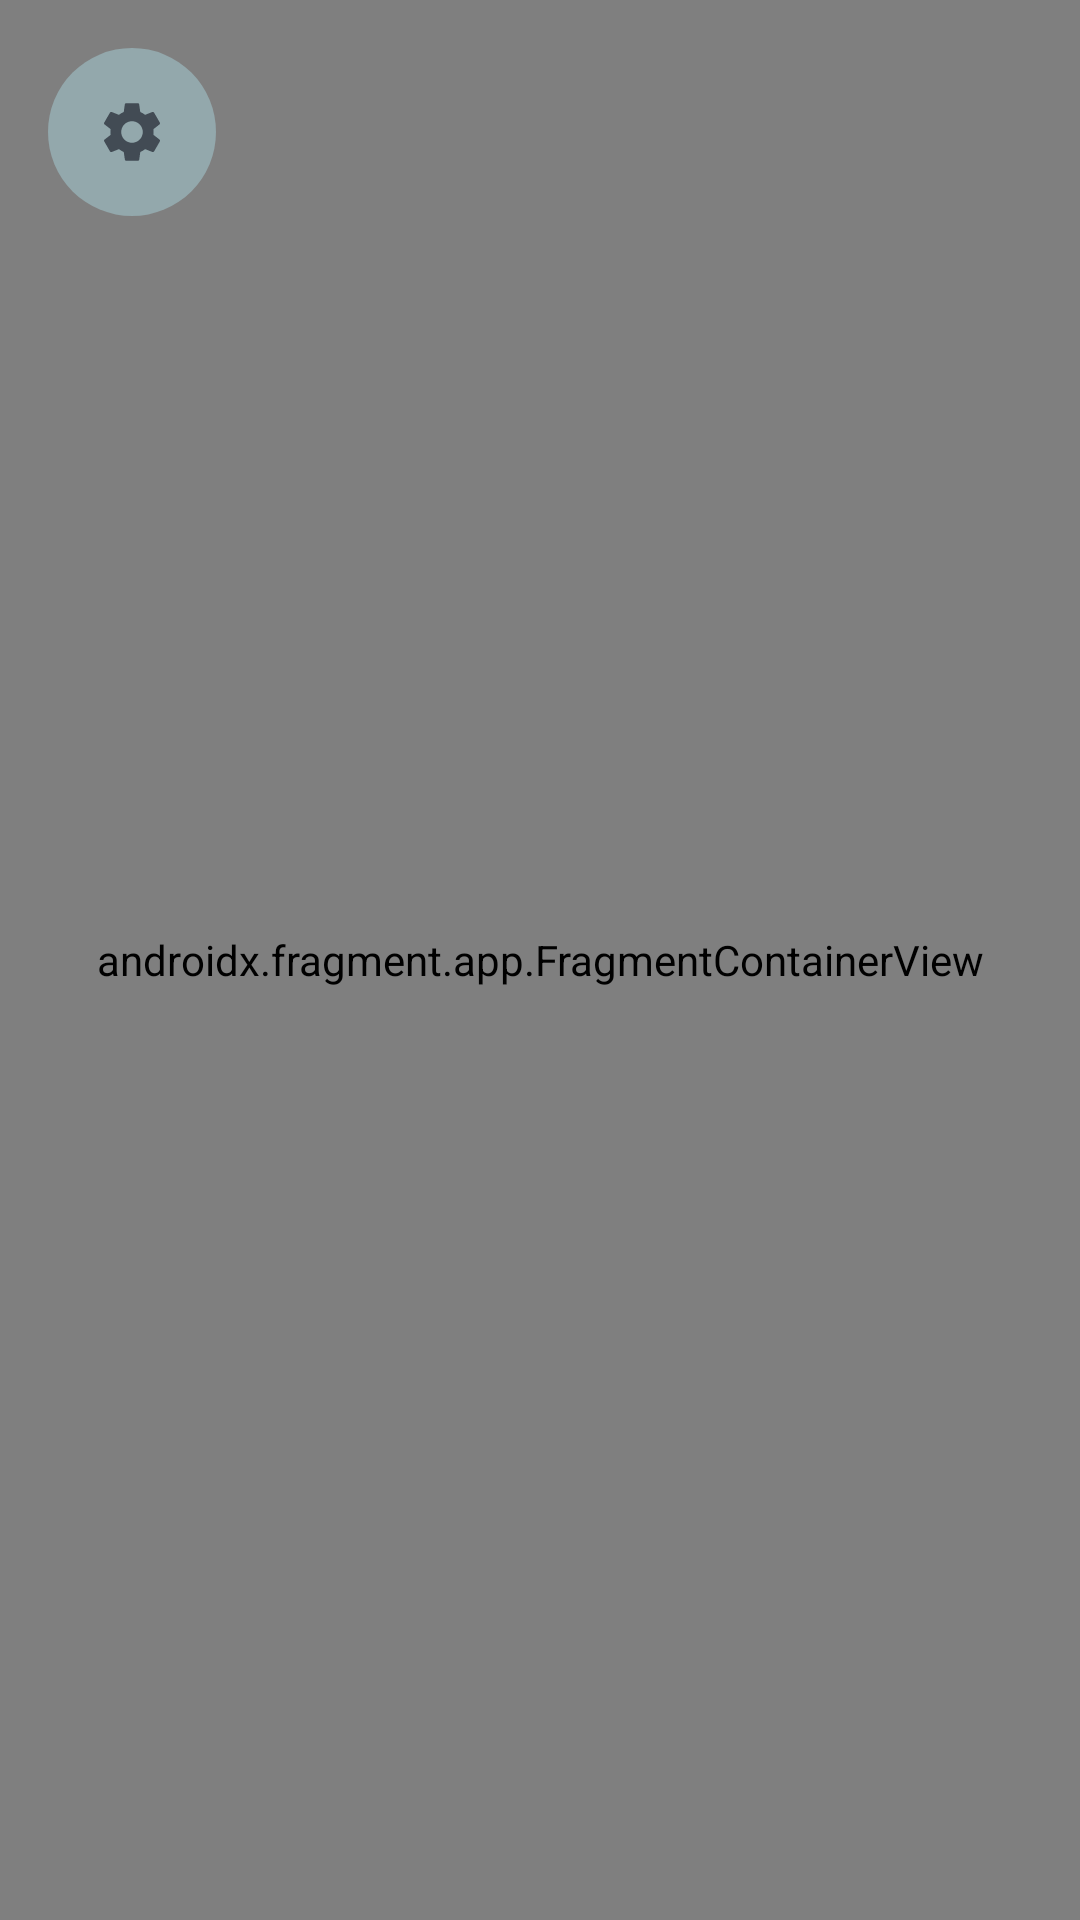

Icon bounding boxes for this 1080 × 1920 phone screenshot, format (x1, y1, x2, y2):
Settings: (104, 103, 160, 161)
